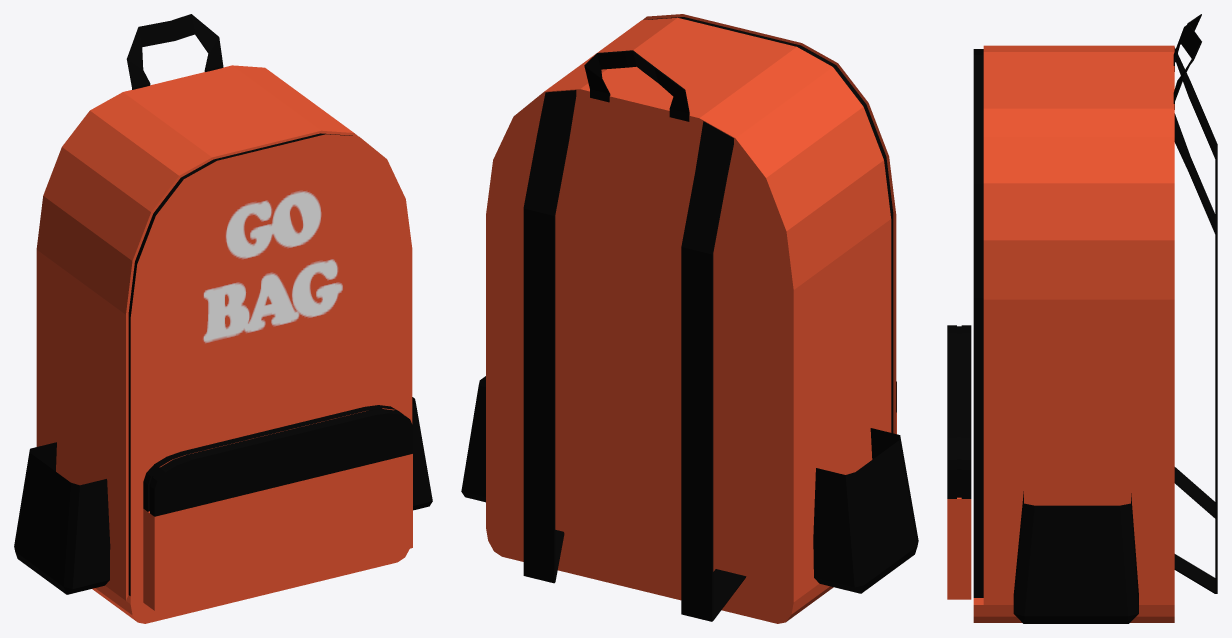
The model's file is gobag.fbx.
The picture shows the model from 3 angles, left to right: view 1: azimuth 30°, elevation 25°; view 2: azimuth 150°, elevation 25°; view 3: azimuth 270°, elevation 25°; orthographic projection. The views are drawn at different scales.
Parts seen in each view (by area): view 1: Cube; view 2: Cube; view 3: Cube.
Boxes of the visible parts, left/top/right/bottom form: Cube: left=14, top=14, right=432, bottom=623; Cube: left=461, top=14, right=918, bottom=623; Cube: left=947, top=14, right=1217, bottom=623.
Size of the model in its own units: 29.41 by 38.08 by 17.49.
Materials: 7 (1 with a texture image).
